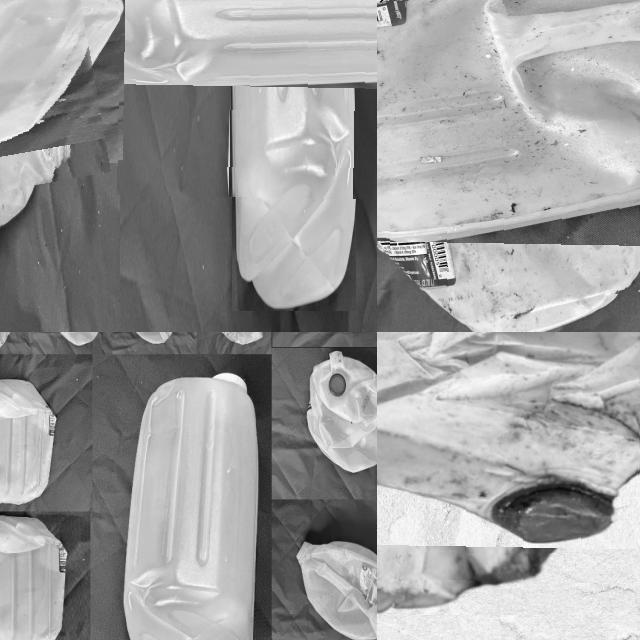milk-jug: (377, 0, 640, 295), (377, 332, 640, 583), (119, 0, 377, 199), (126, 374, 256, 640), (0, 0, 100, 207), (300, 358, 377, 472), (0, 518, 70, 640), (298, 544, 377, 640), (0, 379, 56, 506), (212, 332, 266, 350), (50, 332, 98, 350), (121, 332, 177, 345)
